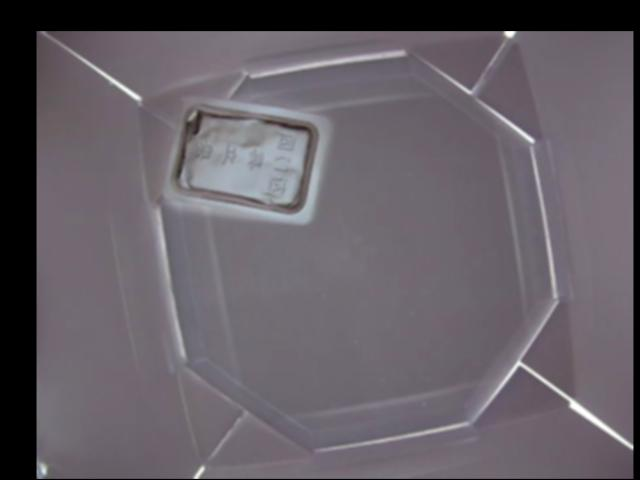Medicine: (167, 93, 333, 223)
